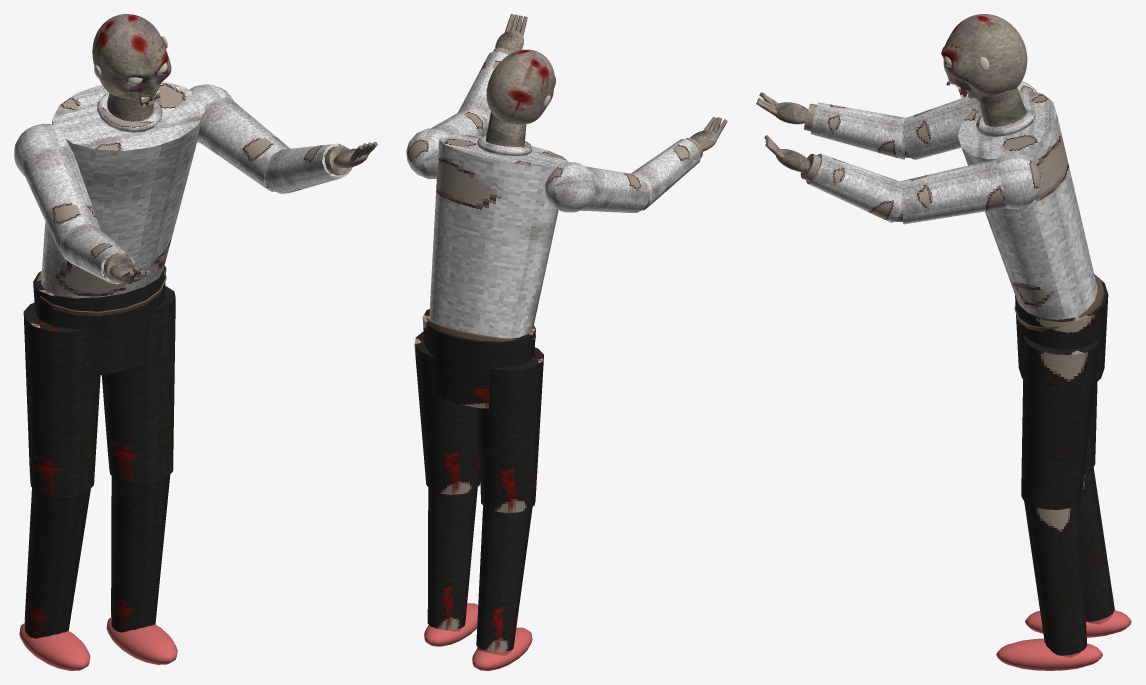
File: Zombie_086.glb
3 views of the same model, side by side, from view 1: azimuth 30°, elevation 25°; view 2: azimuth 150°, elevation 25°; view 3: azimuth 270°, elevation 25° (orthographic). The views are drawn at different scales.
Parts seen in each view (by area): view 1: Zombie_086, object 18, object 12, object 4; view 2: Zombie_086, object 18, object 4, object 12; view 3: Zombie_086, object 18, object 4, object 12, object 5.
Part boxes in pixels (box(x1,y1,x2,y2)): Zombie_086: box(14, 81, 289, 670); object 18: box(92, 14, 171, 101); object 12: box(264, 143, 349, 193); object 4: box(59, 224, 134, 284); Zombie_086: box(406, 109, 650, 670); object 18: box(486, 49, 555, 124); object 4: box(631, 139, 700, 210); object 12: box(458, 51, 507, 122); Zombie_086: box(900, 81, 1131, 670); object 18: box(941, 14, 1027, 101); object 4: box(810, 102, 905, 159); object 12: box(806, 153, 902, 222); object 5: box(774, 102, 807, 124).
Bounding box in the file's own units: 0.6865 × 1.74 × 0.9423.
Materials: 15 (5 with a texture image).
